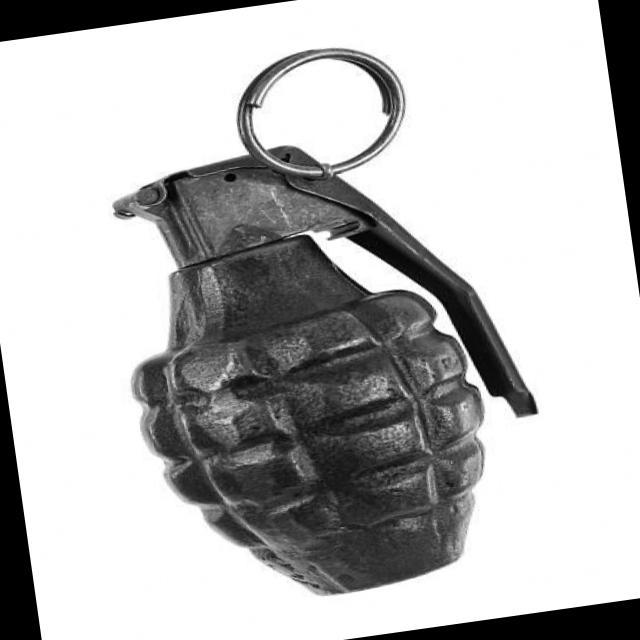grenade: (95, 32, 566, 623)
